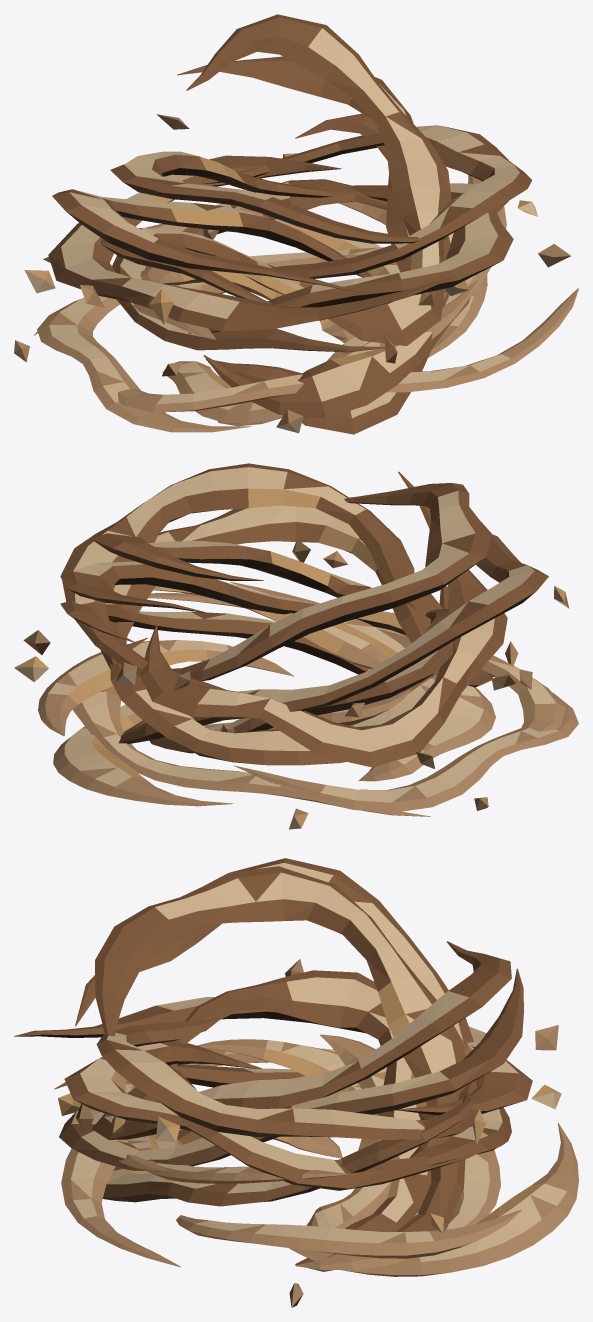
Rendered from Dust_Dash.glb.
3 renders of one model, top to bottom at view 1: azimuth 30°, elevation 25°; view 2: azimuth 150°, elevation 25°; view 3: azimuth 270°, elevation 25°, orthographic. The views are drawn at different scales.
Visible parts, largest first — view 1: Rolling_Sand_10, DUST_IMPACT, Rolling_Sand_7, Rolling_Sand_6, Rolling_Sand_5, Rolling_Sand_8, Rolling_Sand_9, Rolling_Sand_4, Ground_Plume_3, Rolling_Sand_3, Ground_Plume_2, Rolling_Sand_2 (+2 smaller); view 2: DUST_IMPACT, Rolling_Sand_7, Rolling_Sand_8, Rolling_Sand_9, Rolling_Sand_5, Rolling_Sand_4, Ground_Plume_2, Rolling_Sand_6, Rolling_Sand_3, Rolling_Sand_10, Ground_Plume_1, Rolling_Sand_2 (+2 smaller); view 3: DUST_IMPACT, Rolling_Sand_9, Rolling_Sand_8, Rolling_Sand_1, Rolling_Sand_4, Rolling_Sand_6, Rolling_Sand_10, Rolling_Sand_5, Rolling_Sand_2, Rolling_Sand_7, Rolling_Sand_3, Ground_Plume_3 (+1 smaller).
Part boxes in pixels (x1,y1,x2,y2): Rolling_Sand_10: (186,14,451,345); DUST_IMPACT: (24,114,570,433); Rolling_Sand_7: (48,155,455,331); Rolling_Sand_6: (177,56,450,418); Rolling_Sand_5: (52,189,372,293); Rolling_Sand_8: (201,125,532,278); Rolling_Sand_9: (110,151,447,243); Rolling_Sand_4: (188,183,513,333); Ground_Plume_3: (118,288,578,412); Rolling_Sand_3: (112,179,389,352); Ground_Plume_2: (37,295,252,432); Rolling_Sand_2: (206,113,470,434); DUST_IMPACT: (14,542,569,829); Rolling_Sand_7: (140,471,507,767); Rolling_Sand_8: (61,463,415,690); Rolling_Sand_9: (171,483,491,680); Rolling_Sand_5: (119,534,548,743); Rolling_Sand_4: (100,505,442,676); Ground_Plume_2: (233,692,578,812); Rolling_Sand_6: (60,561,493,687); Rolling_Sand_3: (110,586,448,765); Rolling_Sand_10: (91,533,371,597); Ground_Plume_1: (73,686,430,816); Rolling_Sand_2: (60,600,370,674); DUST_IMPACT: (58,959,578,1307); Rolling_Sand_9: (95,866,467,1177); Rolling_Sand_8: (96,1018,481,1139); Rolling_Sand_1: (176,970,431,1271); Rolling_Sand_4: (64,1040,478,1190); Rolling_Sand_6: (59,968,523,1170); Rolling_Sand_10: (92,941,511,1139); Rolling_Sand_5: (75,858,473,1231); Rolling_Sand_2: (102,1093,474,1206); Rolling_Sand_7: (14,997,532,1115); Rolling_Sand_3: (54,1064,511,1165); Ground_Plume_3: (61,1048,225,1267).
Size of the model in its own units: 5.16 by 2.48 by 4.6.
